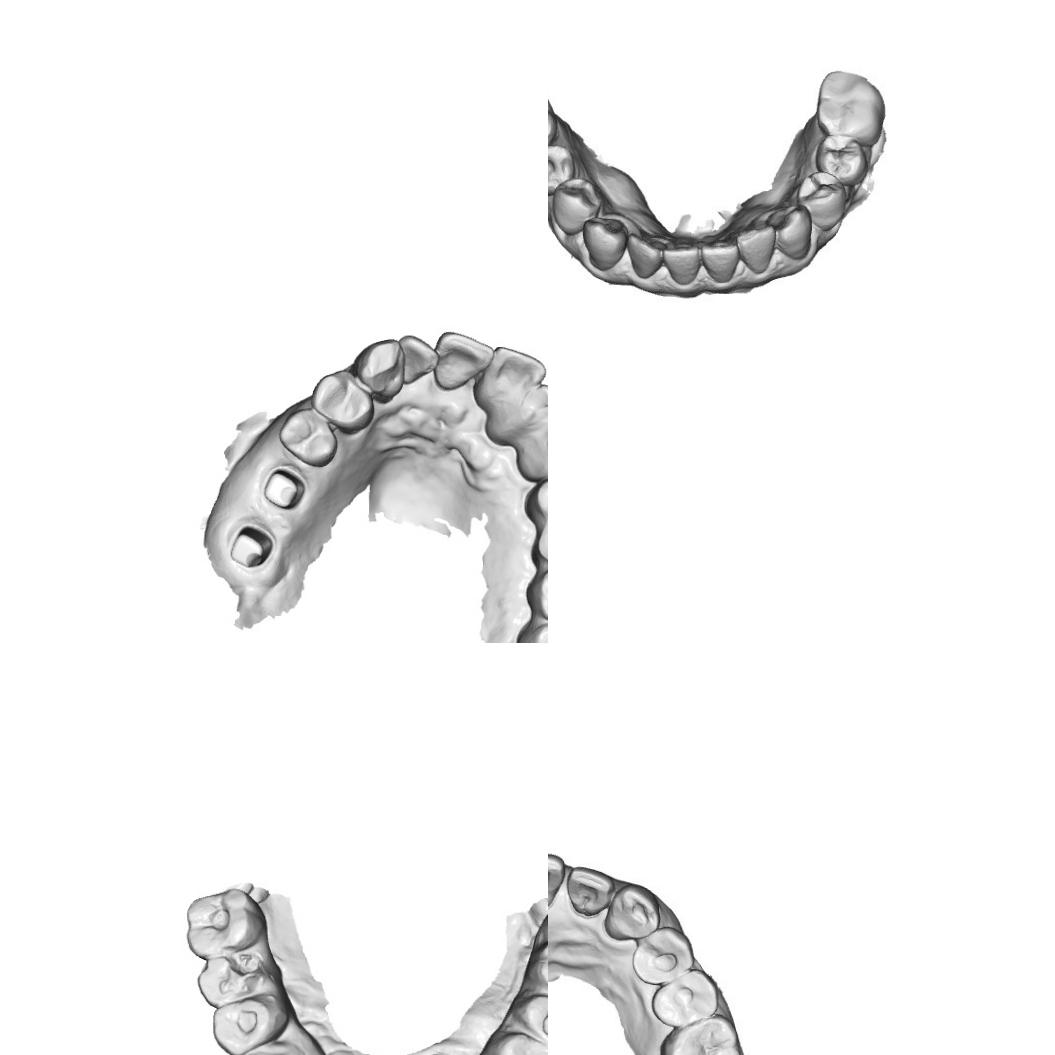abutment: (226, 522, 274, 572), (260, 463, 308, 511)
canine: (350, 337, 408, 403), (602, 884, 662, 943), (579, 215, 632, 270), (514, 418, 548, 484), (775, 204, 813, 262), (240, 1040, 308, 1055)
incisor: (471, 344, 548, 412), (430, 328, 496, 393), (503, 381, 548, 448), (396, 332, 442, 388), (562, 866, 611, 914), (702, 236, 744, 286), (626, 232, 666, 283), (737, 224, 776, 276), (664, 238, 702, 288), (548, 850, 561, 906)
molar: (182, 886, 268, 958), (193, 946, 280, 1011), (814, 70, 885, 144), (659, 1011, 745, 1055), (524, 937, 548, 1010), (523, 561, 548, 624), (530, 895, 548, 958)
premolar: (209, 991, 293, 1055), (308, 368, 377, 437), (274, 399, 340, 470), (628, 922, 694, 984), (650, 972, 718, 1028), (812, 134, 870, 188), (800, 170, 847, 233), (548, 178, 598, 235), (511, 989, 548, 1052), (548, 142, 580, 198), (487, 1026, 548, 1055), (521, 468, 548, 525), (527, 516, 548, 574)
